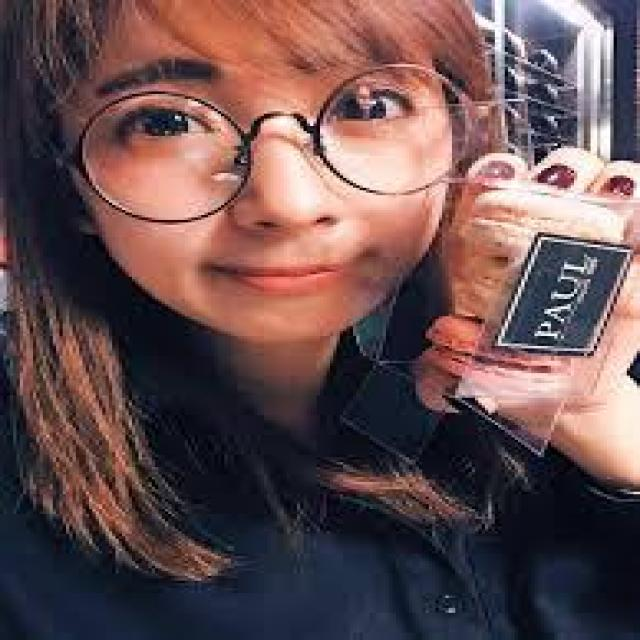glasses: (53, 72, 469, 222)
